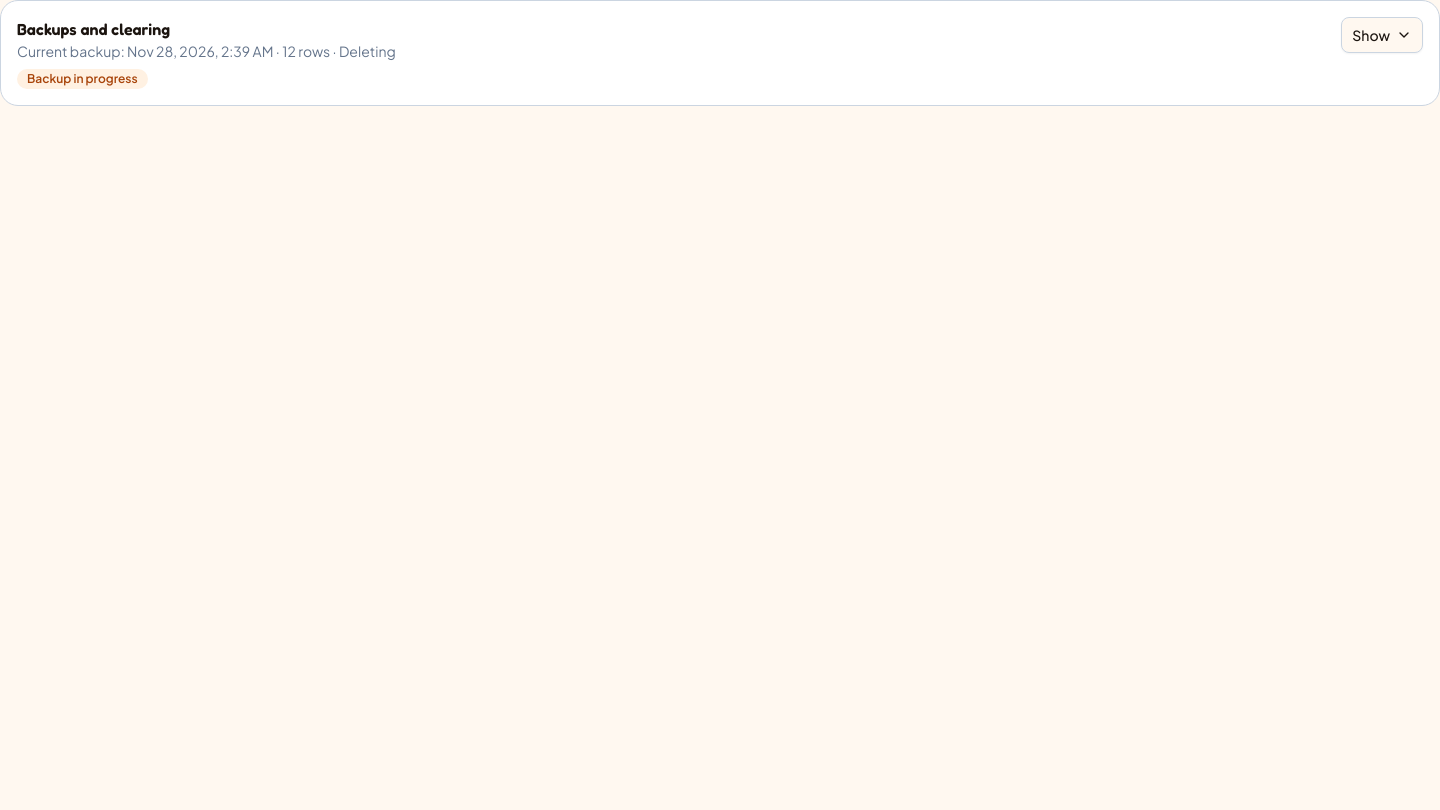
Activity Log backup panel › pins the current backup once and excludes it from the history count
This screenshot has width=1440, height=810.
Expected: the text "Current backup: Nov 28, 2026, 2:39 AM · 12 rows · Deleting" is shown, x1=17 y1=42 x2=396 y2=60
Expected: the text "Backup in progress" is shown, x1=17 y1=69 x2=148 y2=89
Click the button with aria-label "Show backups and clearing": (1382, 35) x1=1341 y1=17 x2=1423 y2=53
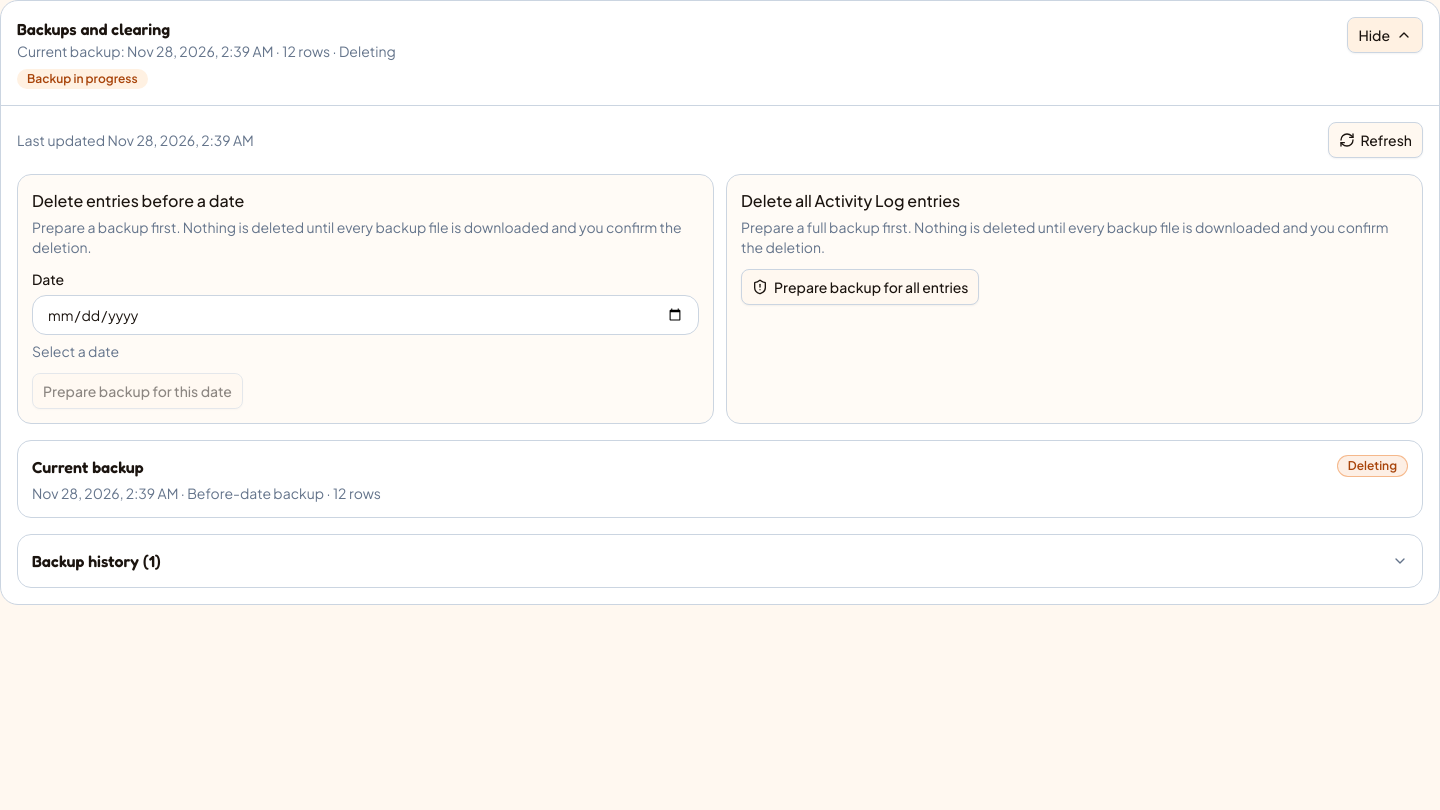
Expected: the heading "Current backup" is shown, x1=32 y1=457 x2=144 y2=477
Expected: the text "Deleting" is shown, x1=1337 y1=455 x2=1408 y2=477
Expected: the button "Backup history (1)" is shown, x1=18 y1=535 x2=1422 y2=587
